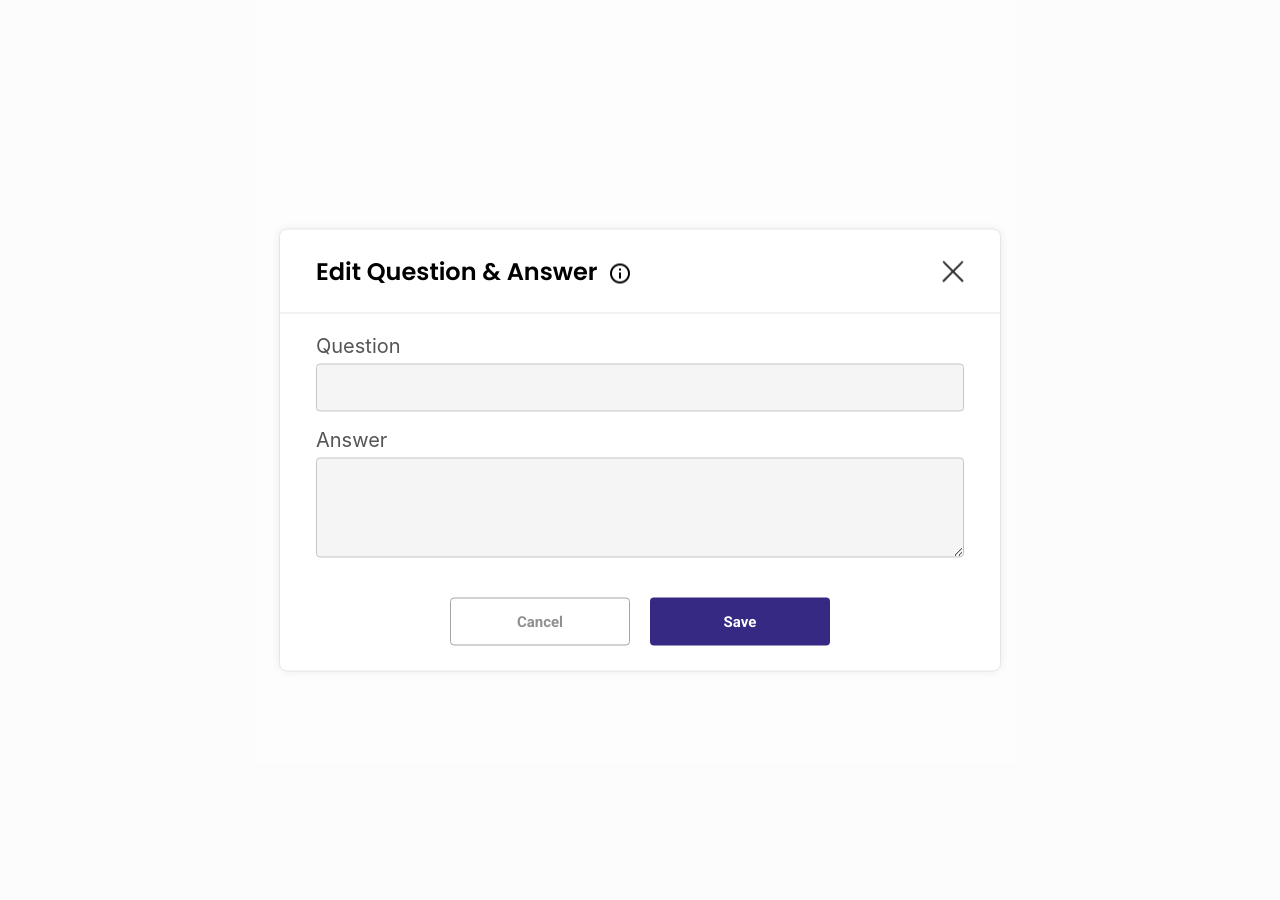
it: Edit Modal › Empty question answer shows error
Click the button "Save": [740, 622] box [650,598,830,646]
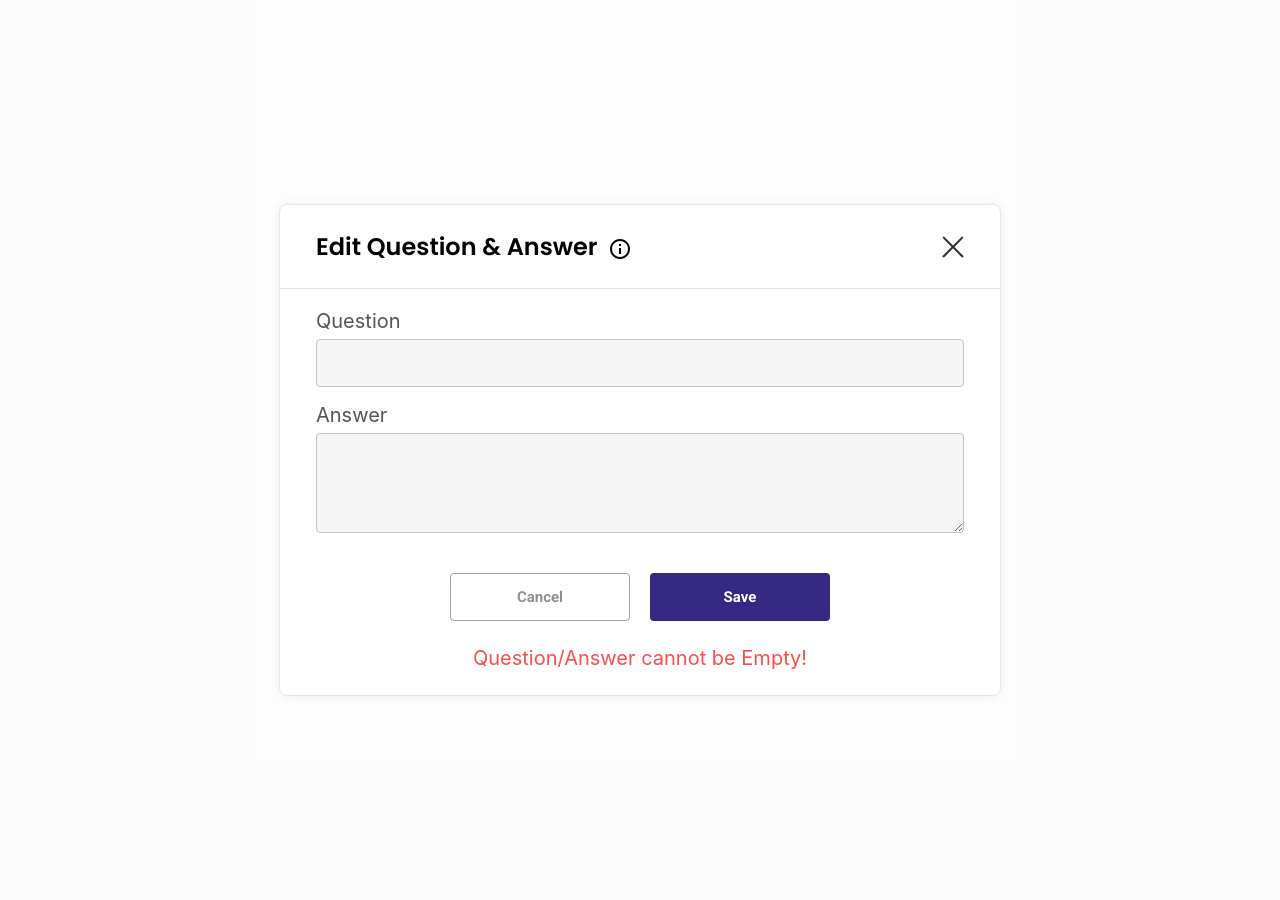
Expected: the text "Question/Answer cannot be Empty!" is shown, [473,646,807,670]
